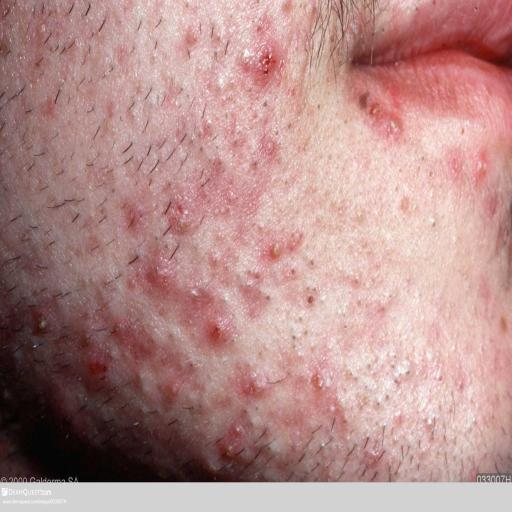Skin_Lesion: (317, 227, 391, 295), (236, 18, 286, 104), (119, 247, 193, 296), (76, 17, 126, 85), (24, 278, 62, 360), (149, 175, 201, 233), (362, 88, 408, 153), (301, 341, 344, 396), (112, 311, 157, 362), (261, 227, 306, 265), (155, 83, 190, 126), (218, 418, 252, 460), (206, 306, 241, 346), (232, 276, 266, 315), (82, 344, 114, 382), (426, 319, 454, 358), (255, 129, 281, 164), (245, 367, 271, 394), (161, 370, 184, 398), (30, 12, 49, 45), (176, 34, 196, 64), (122, 204, 140, 232), (472, 151, 489, 180), (451, 365, 468, 392), (483, 190, 499, 218), (478, 277, 493, 304), (448, 155, 464, 178), (42, 96, 58, 117), (199, 120, 214, 140)
